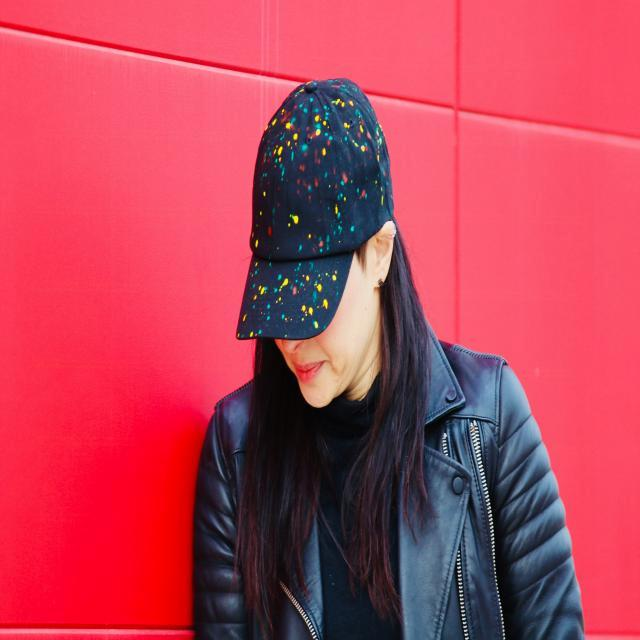no_hard_hat: (238, 80, 394, 339)
person: (193, 80, 584, 640)
